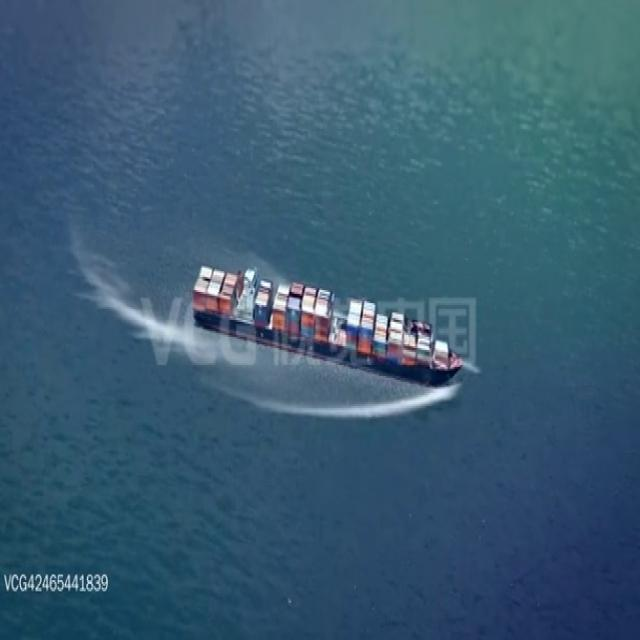cargoship: (191, 258, 462, 388)
